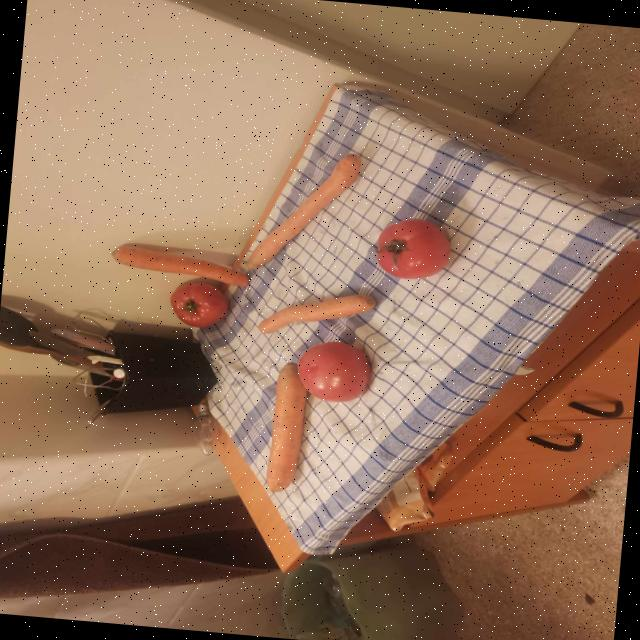carrot: (246, 152, 360, 267), (112, 244, 248, 285), (266, 361, 306, 490), (258, 293, 375, 332)
tomato: (297, 340, 370, 401), (377, 217, 449, 278), (170, 282, 227, 326)
